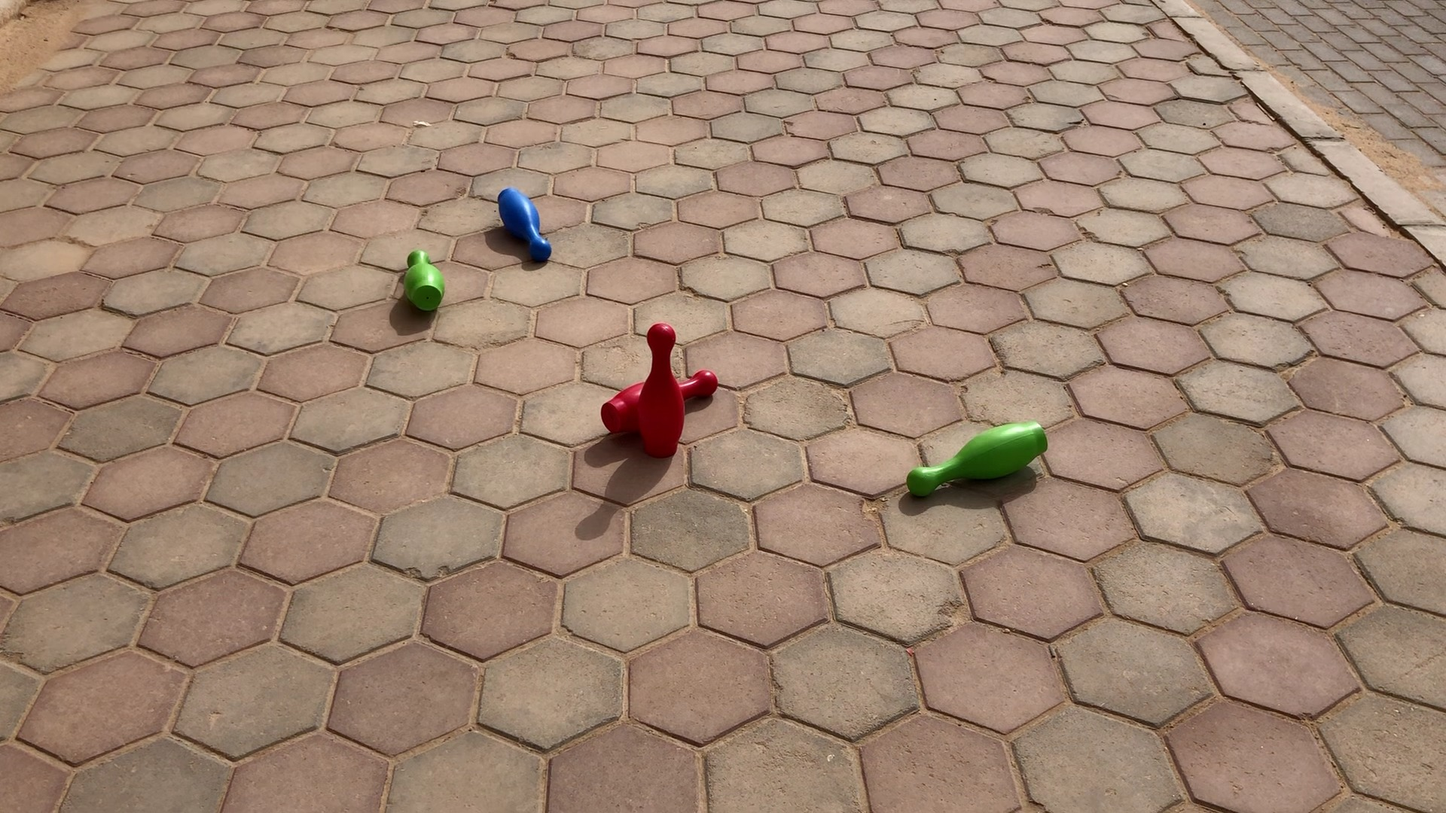bowling-pin: (908, 424, 1045, 495), (621, 323, 687, 454), (601, 370, 718, 434), (498, 187, 552, 261), (402, 250, 445, 313)
